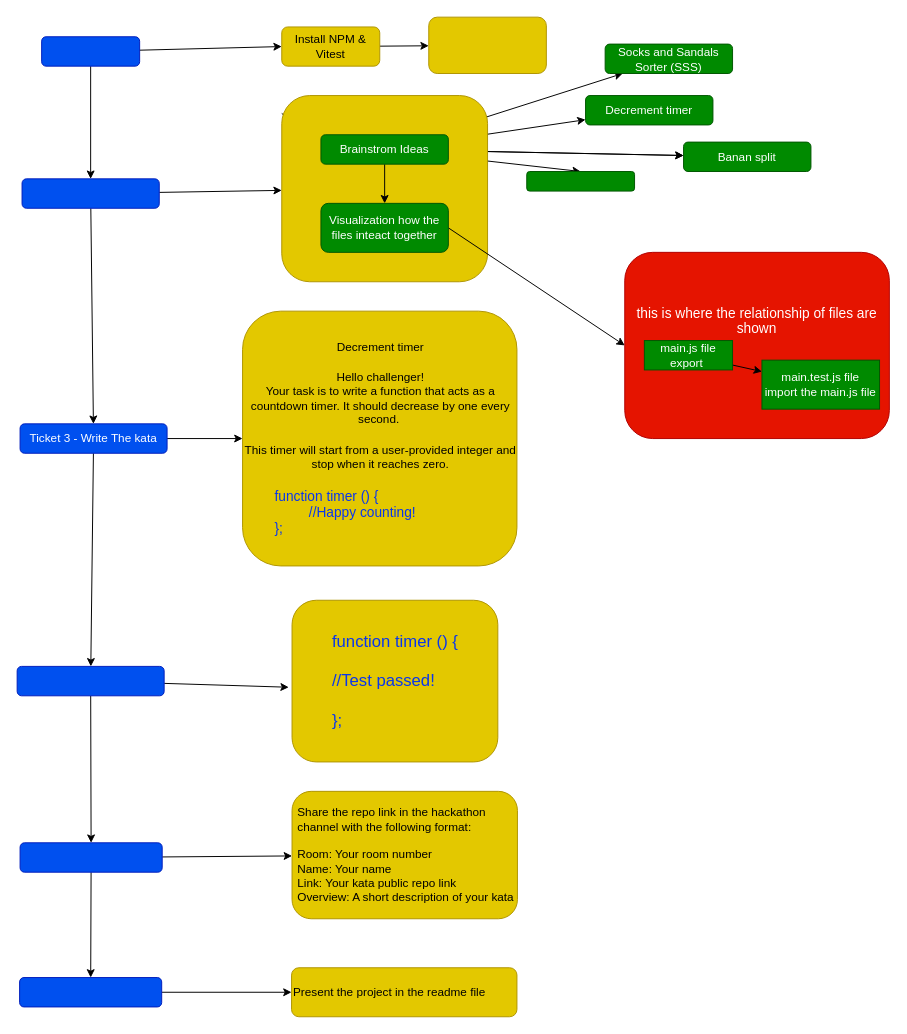
This 907x1034 diagram has some shape labels left out. Each missing label, with the centre of its shape:
"Set up NPM test script in package.json" belongs at pixel 487 45.
"Slicing a cake" belongs at pixel 580 181.
"Ticket 1 - Setup" belongs at pixel 90 51.
"Ticket 2 - Plan the kata" belongs at pixel 90 193.
"Ticket 4 - Check the test" belongs at pixel 90 680.
"Ticket 5 - Share the Kata" belongs at pixel 90 857.
"Ticket 6 - Present the Kata" belongs at pixel 90 992.
